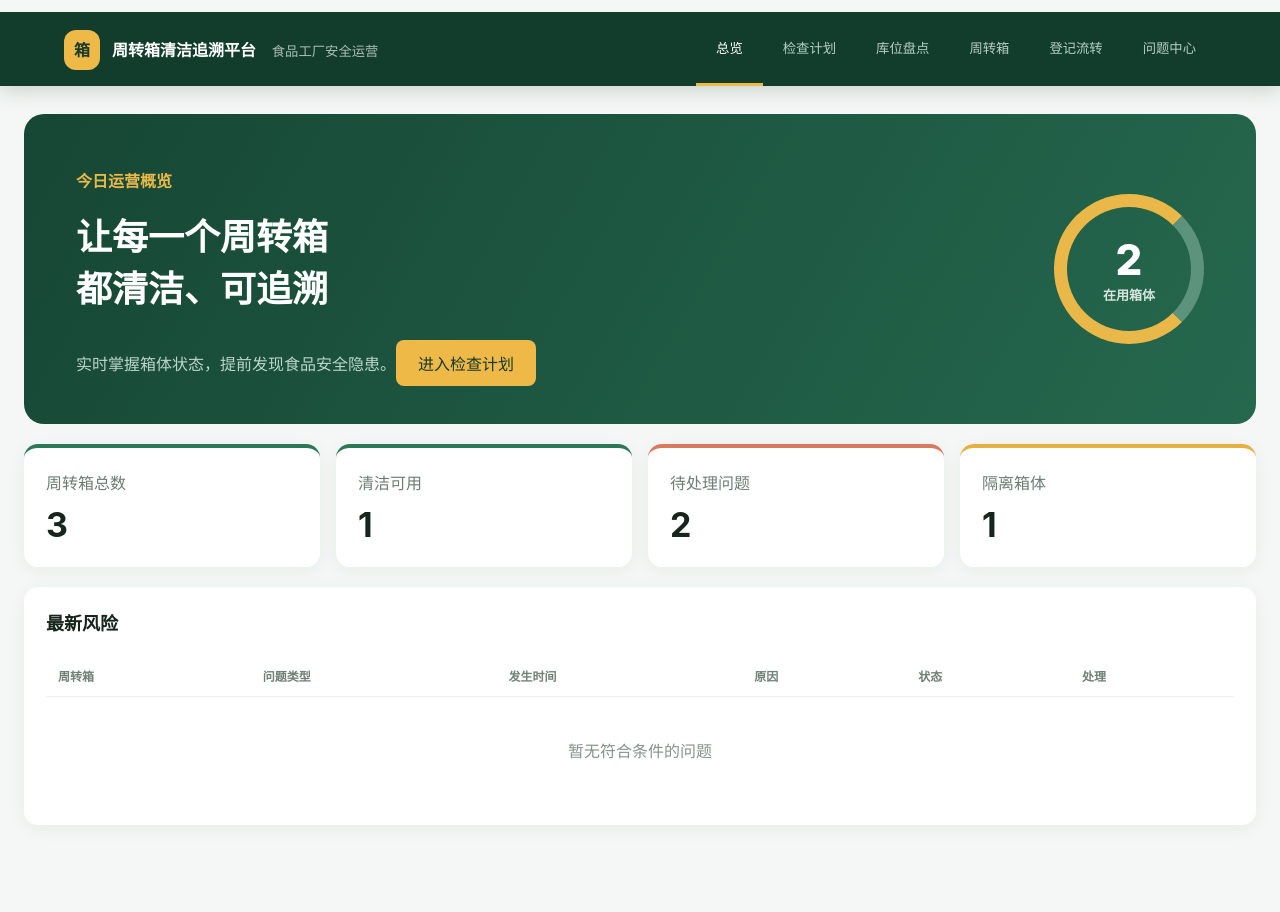
invalid base date or days keeps inputs and shows fixable hint without querying
The image size is (1280, 912).
Expected: the text "周转箱总数" is shown, [46,473,126,493]
Click the button "进入检查计划" at (466, 363), box [396,340,536,386]
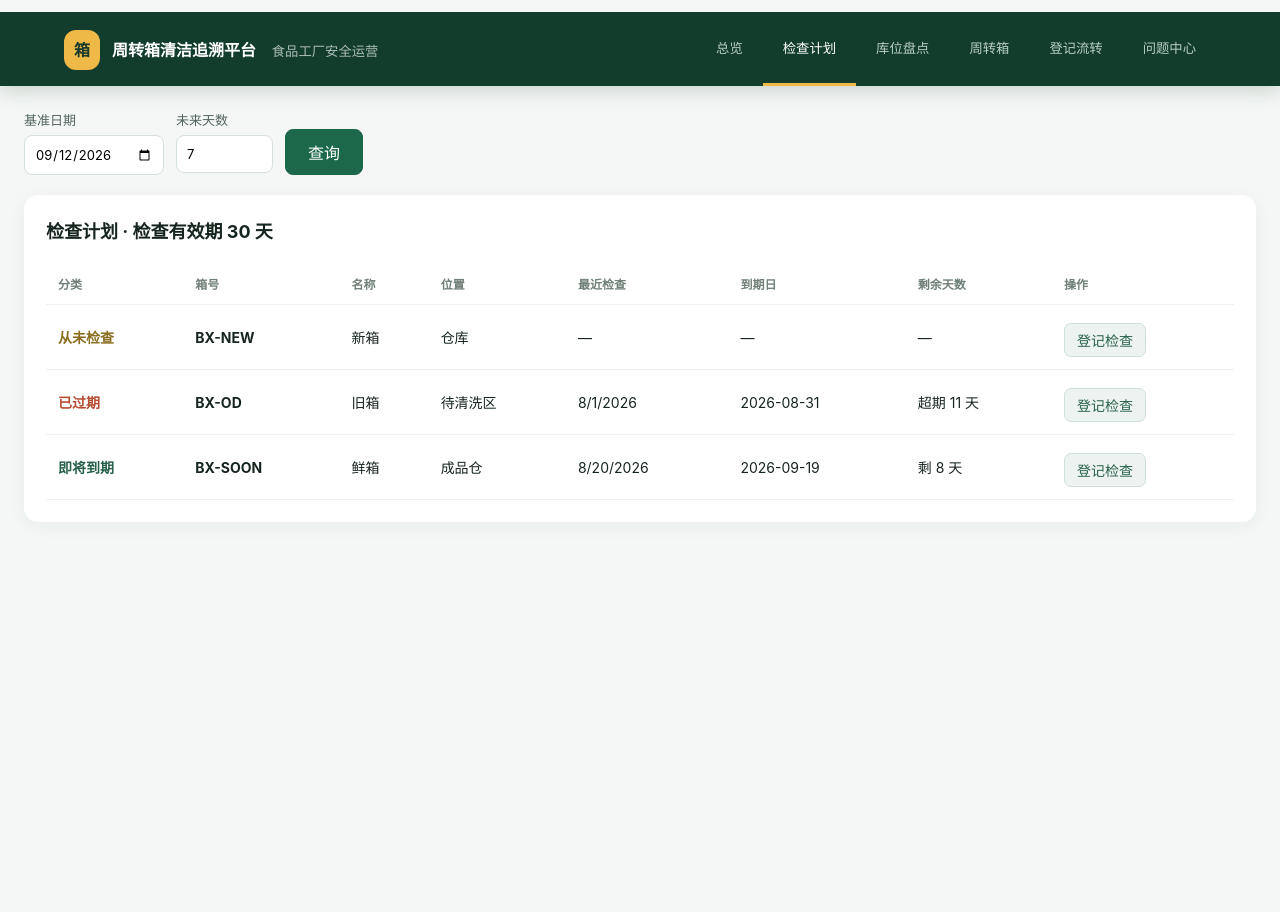
Now the text "BX-NEW" is shown, box [195,328,255,346]
Replace the text in the number field labelled "未来天数" with "-1" at (224, 154), box [176,135,273,173]
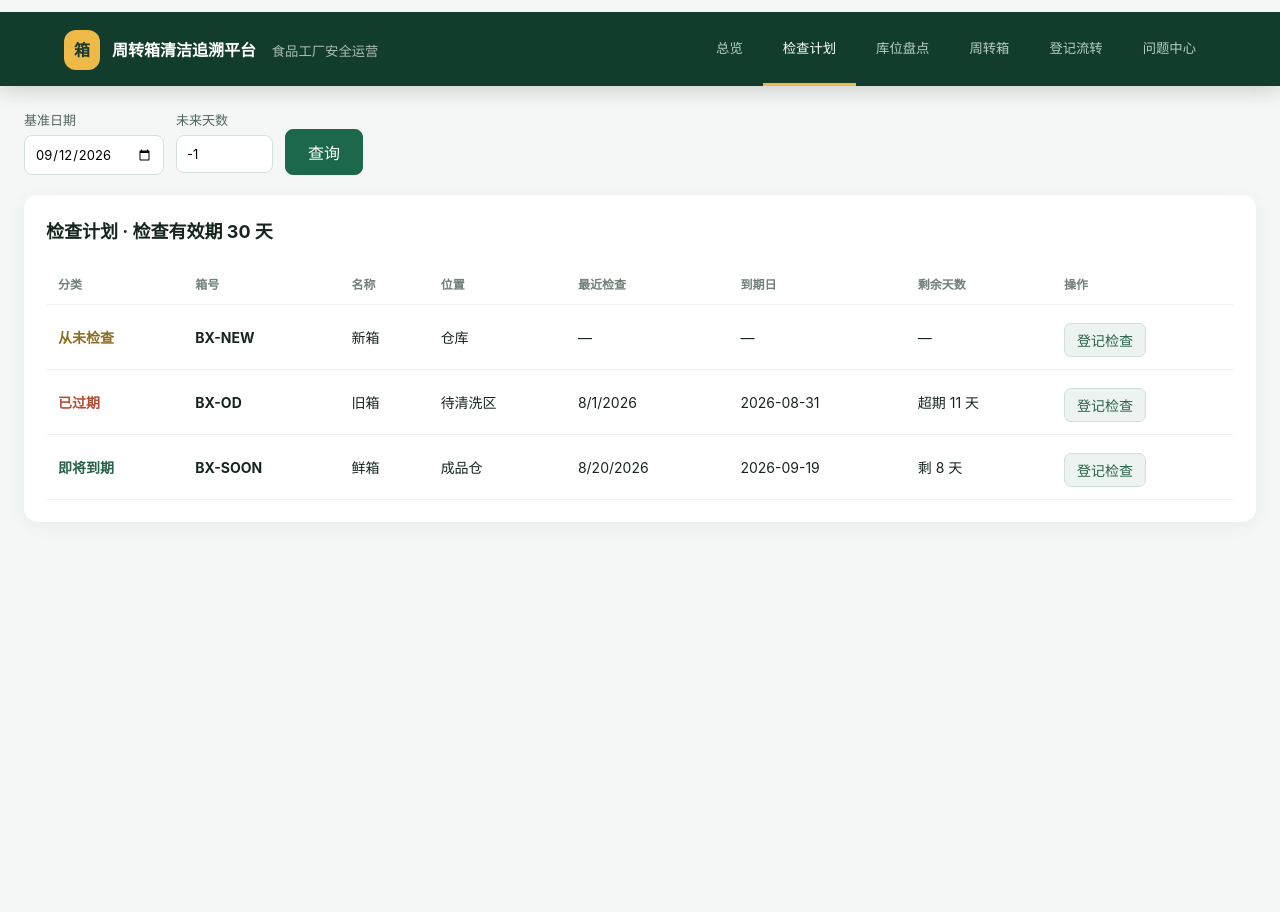
Click the button "查询" at (324, 152), box [285,129,363,175]
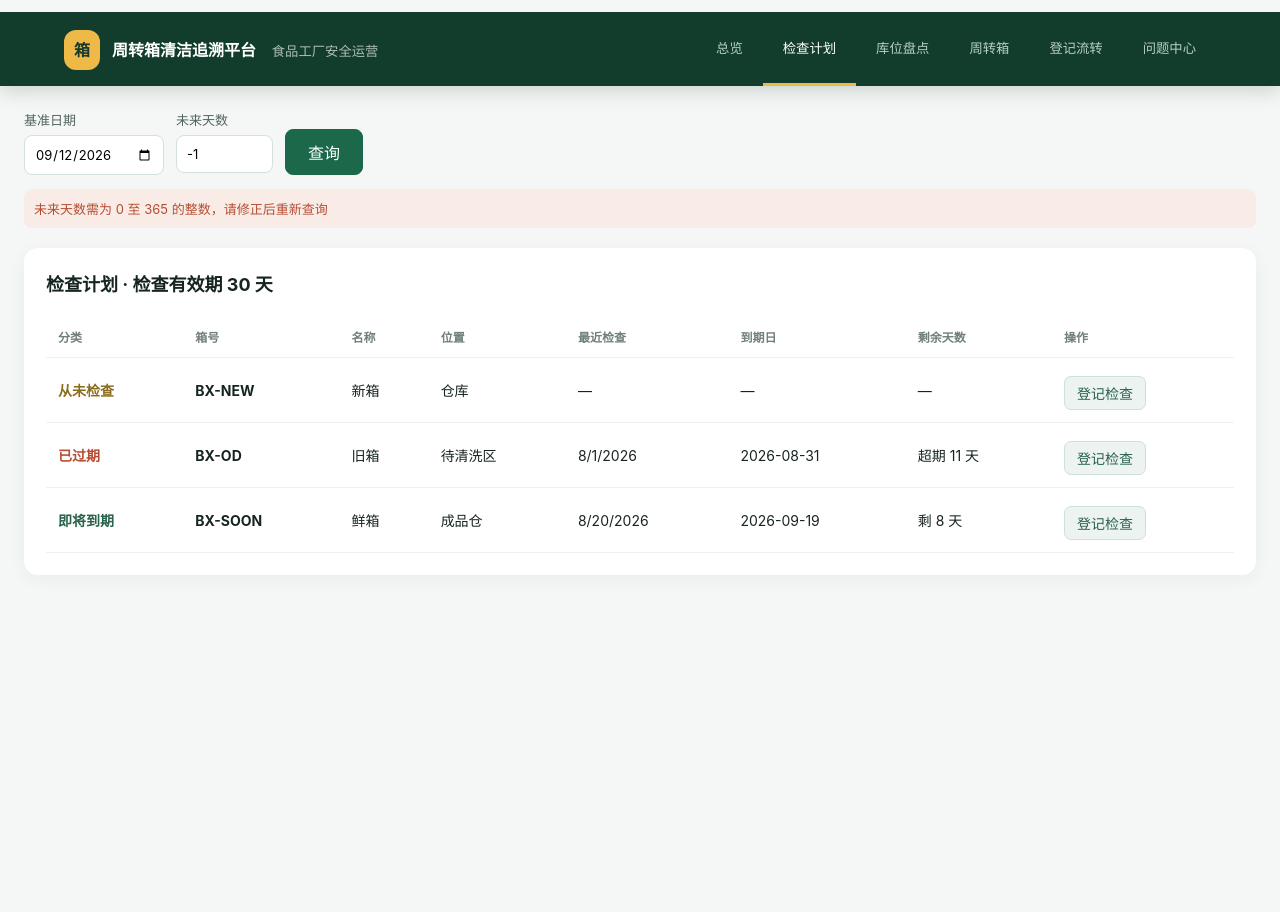
Now the message reads "未来天数需为 0 至 365 的整数，请修正后重新查询", box [34,201,328,217]
Replace the text in the number field labelled "未来天数" with "7" at (224, 154), box [176,135,273,173]
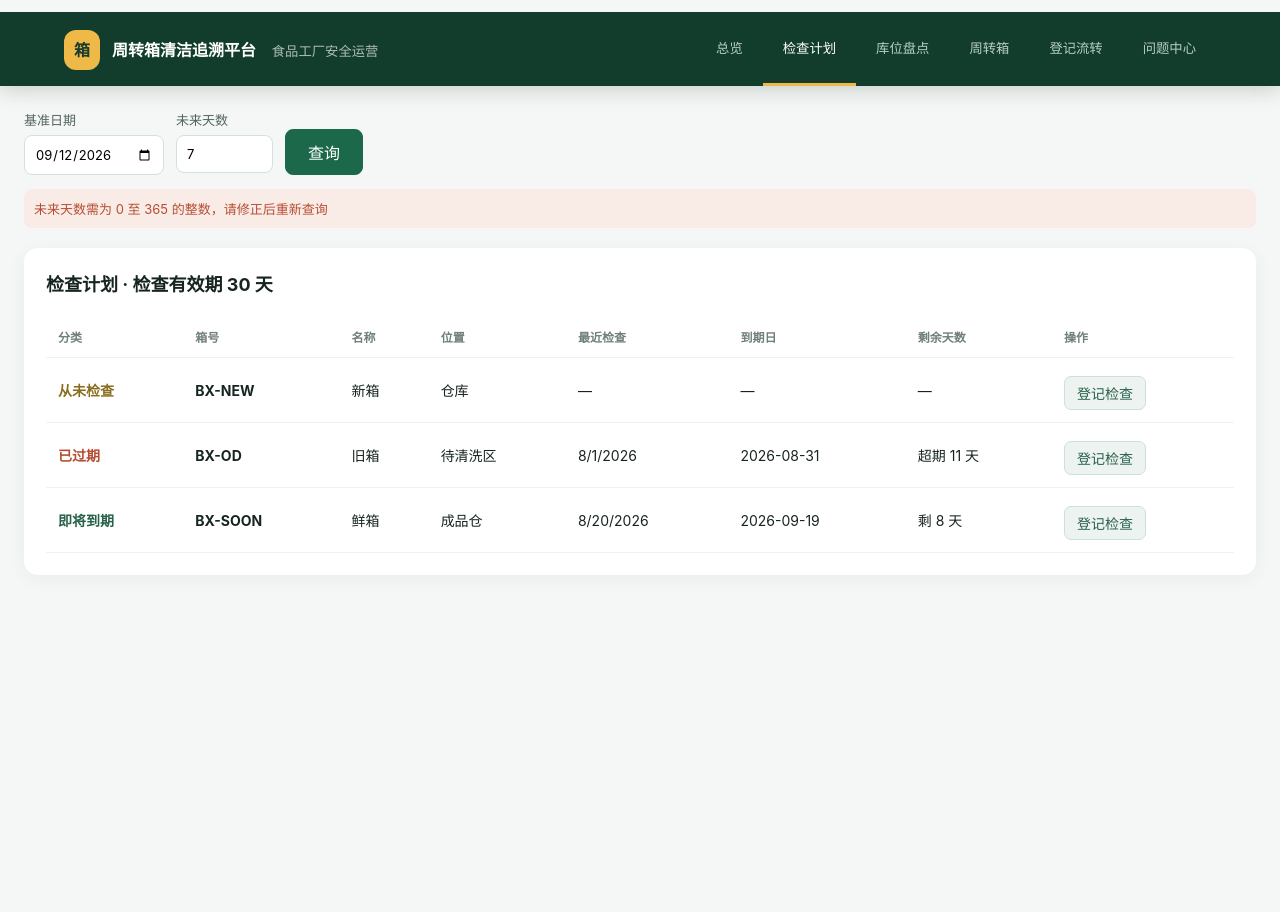
Clear the date field labelled "基准日期" at (94, 155), box [24,135,164,175]
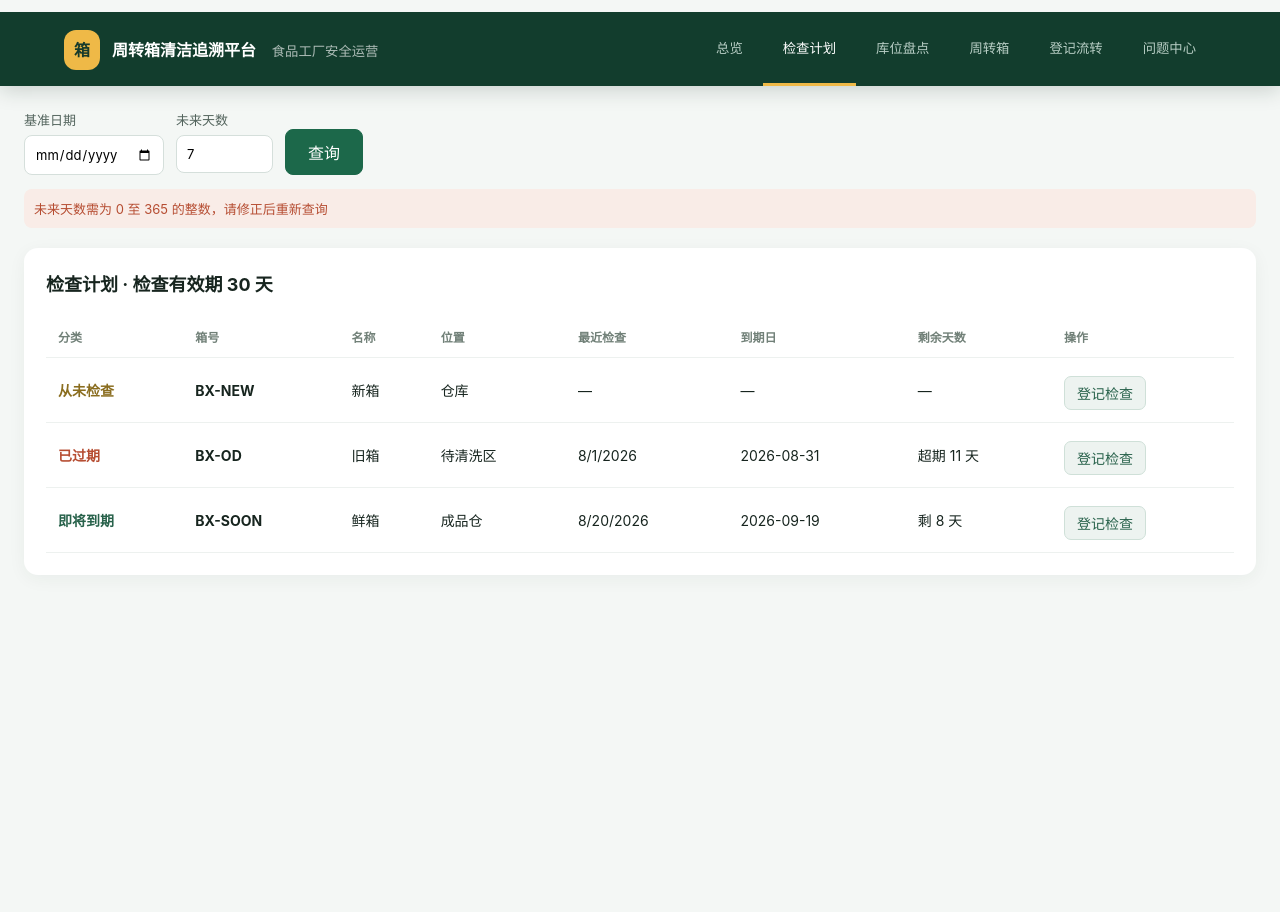
Click the button "查询" at (324, 152), box [285,129,363,175]
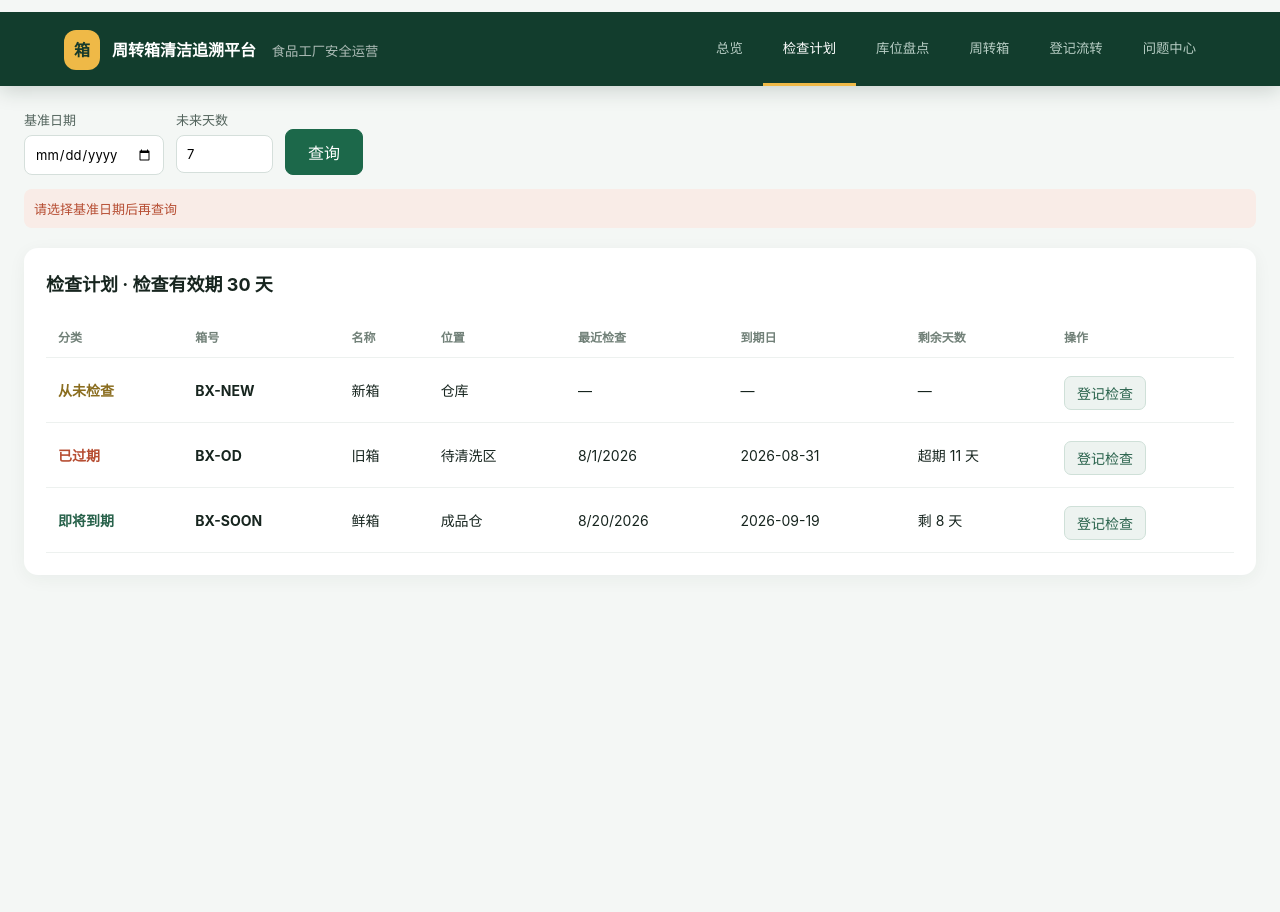
Now the message reads "请选择基准日期后再查询", box [34,201,177,217]
